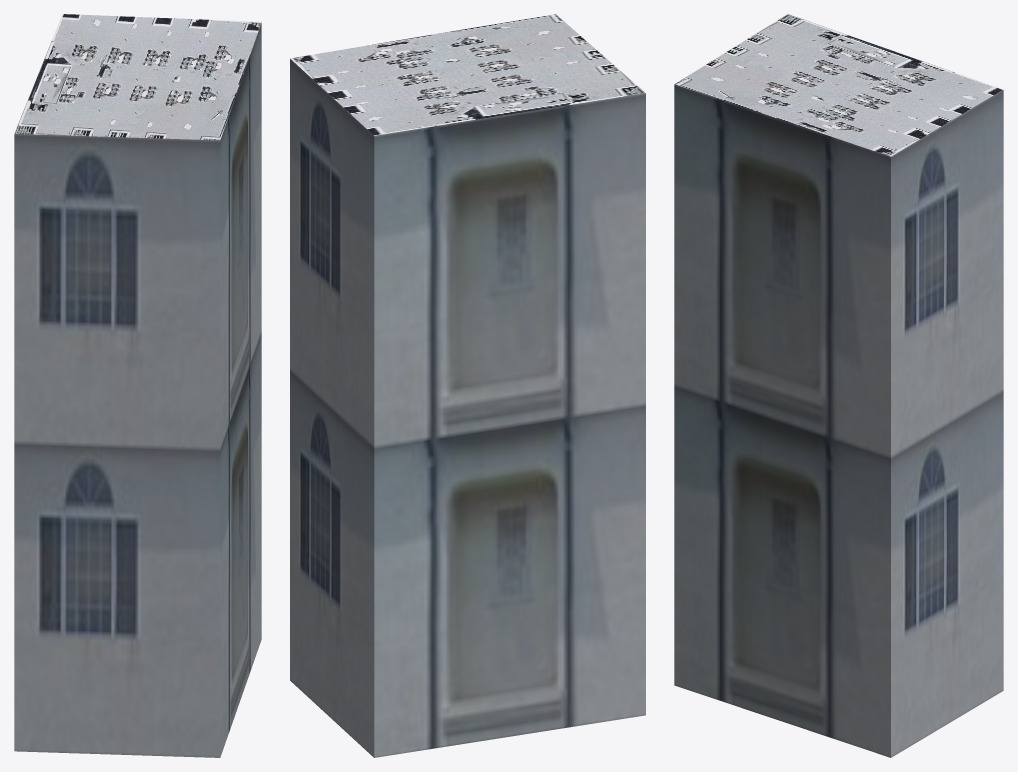
The model's file is ResTex__936.fbx.
The picture shows the model from 3 angles, left to right: view 1: azimuth 30°, elevation 25°; view 2: azimuth 150°, elevation 25°; view 3: azimuth 270°, elevation 25°; orthographic projection. The views are drawn at different scales.
Parts seen in each view (by area): view 1: CityEngineMaterial_17_m, CityEngineMaterial_4_m; view 2: CityEngineMaterial_17_m, CityEngineMaterial_4_m; view 3: CityEngineMaterial_17_m, CityEngineMaterial_4_m.
Boxes of the visible parts, x1=… form: CityEngineMaterial_17_m: x1=14, y1=22, x2=261, y2=757; CityEngineMaterial_4_m: x1=14, y1=14, x2=261, y2=140; CityEngineMaterial_17_m: x1=290, y1=59, x2=645, y2=757; CityEngineMaterial_4_m: x1=290, y1=14, x2=645, y2=135; CityEngineMaterial_17_m: x1=674, y1=84, x2=1003, y2=757; CityEngineMaterial_4_m: x1=675, y1=14, x2=1002, y2=156.
Size of the model in its own units: 3.05 by 6 by 2.98.
2 materials, 2 textured.
